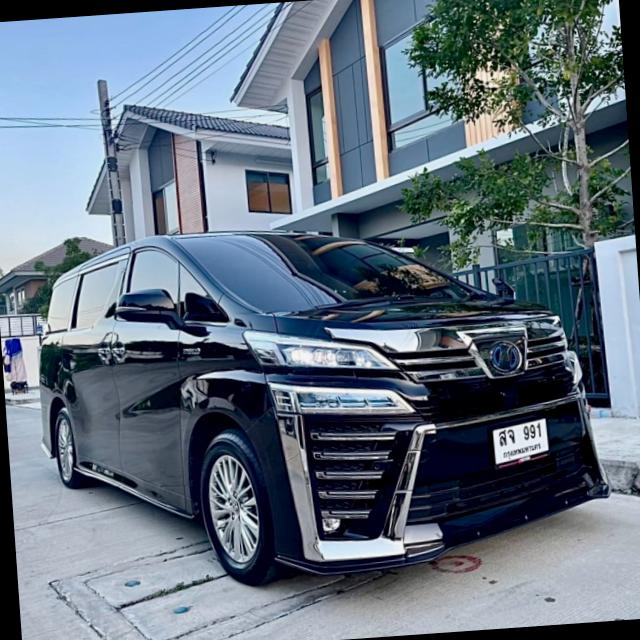license_plate: (489, 412, 552, 467)
